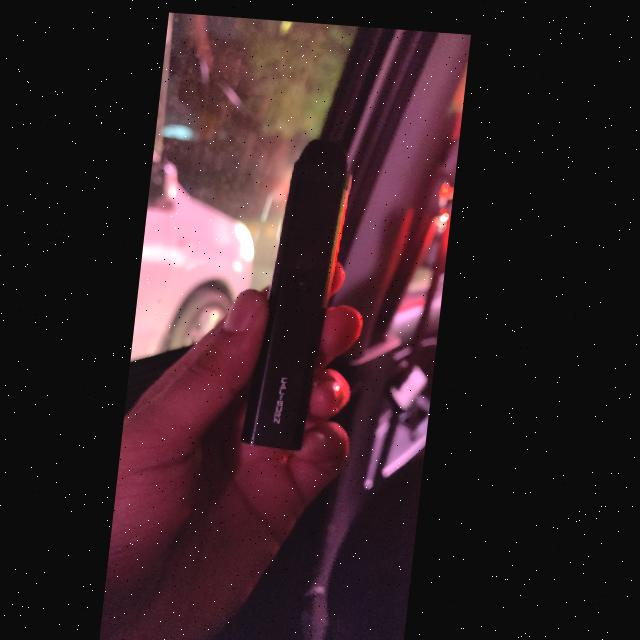vape: (248, 125, 364, 448)
